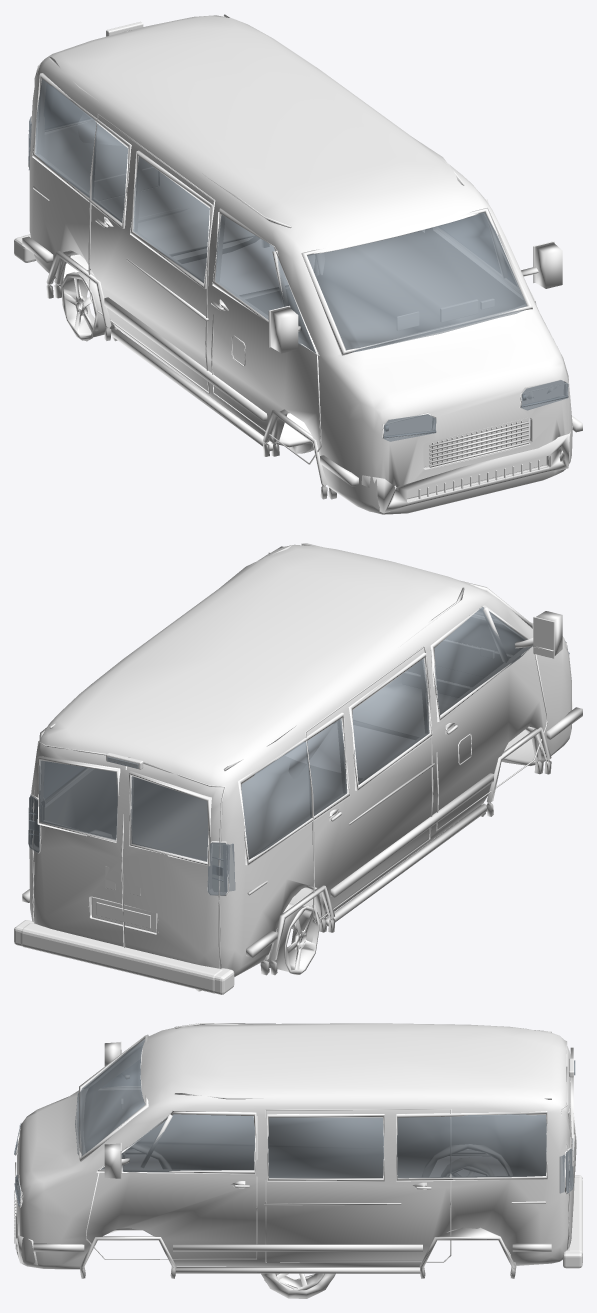
The model's file is van-lo.glb.
3 views of the same model, one above another, from view 1: azimuth 30°, elevation 25°; view 2: azimuth 150°, elevation 25°; view 3: azimuth 270°, elevation 25° (orthographic). The views are drawn at different scales.
Visible parts, largest first — view 1: body; view 2: body; view 3: body, wheel.
Boxes of the visible parts, x1,y1,x2,y2 form: body: (14,14,582,514); body: (14,543,582,994); body: (14,1023,582,1278); wheel: (261,1273,335,1298).
Size of the model in its own units: 2.59 by 2.68 by 5.7.
